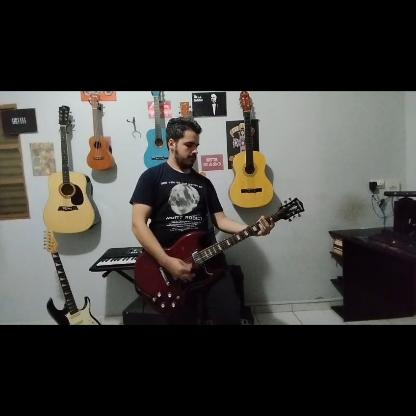acousticguitar: (44, 104, 98, 234), (229, 92, 273, 210), (144, 91, 170, 169)
guitar: (134, 197, 304, 315), (46, 229, 102, 325)
